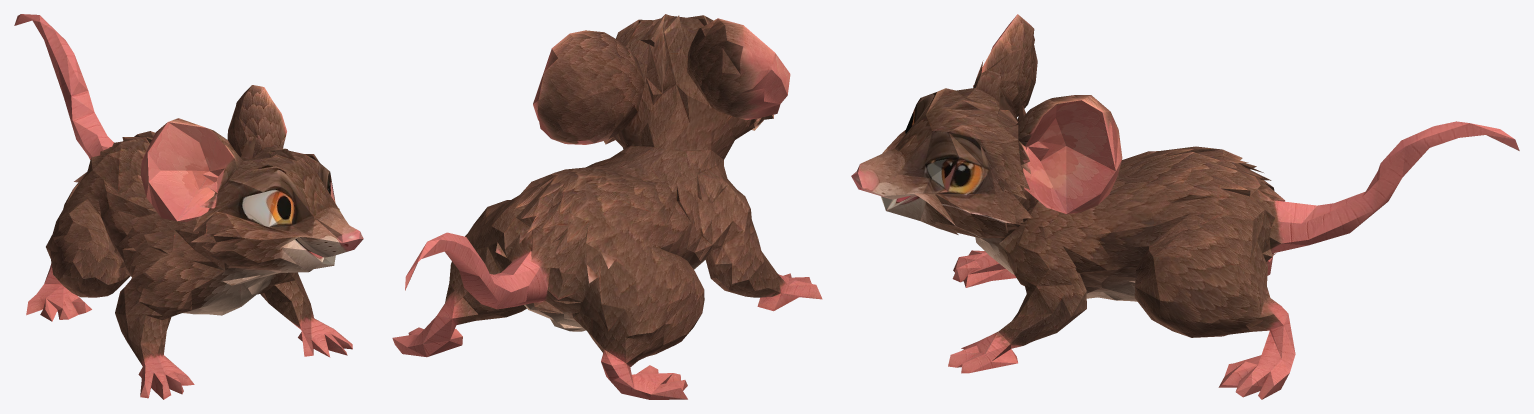
Rendered from rat.glb.
3 renders of one model, left to right at view 1: azimuth 30°, elevation 25°; view 2: azimuth 150°, elevation 25°; view 3: azimuth 270°, elevation 25°, orthographic. The views are drawn at different scales.
Size of the model in its own units: 0.2059 by 0.2 by 0.4343.
Materials: 1 (1 with a texture image).
